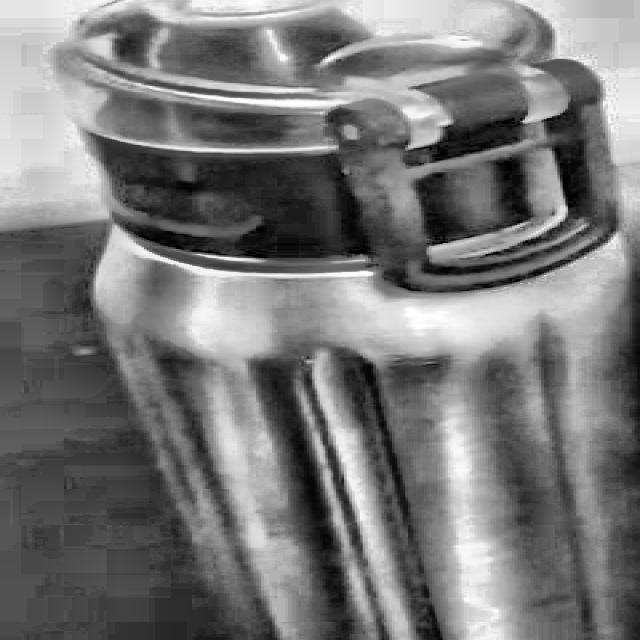bottle: (51, 0, 640, 640)
